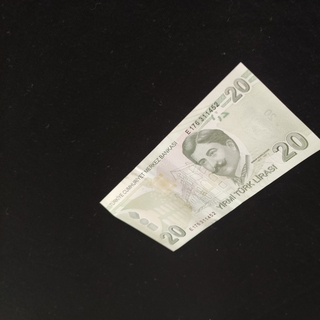20TLBack: (99, 61, 320, 252)
